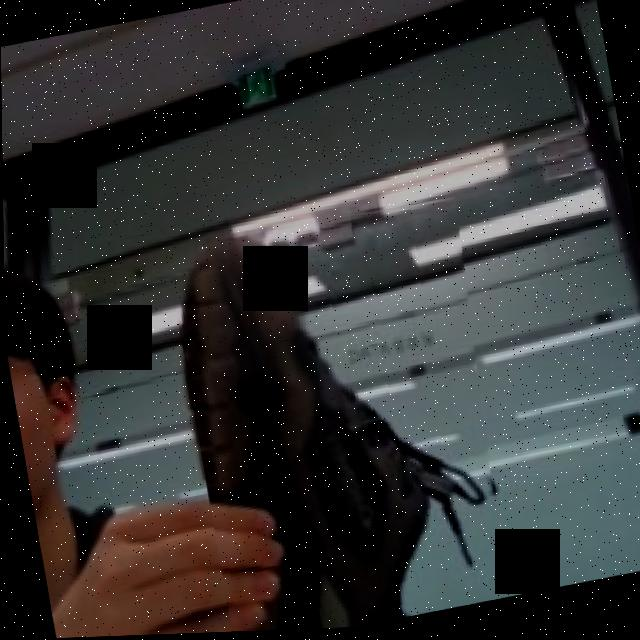shoe: (163, 192, 522, 635)
